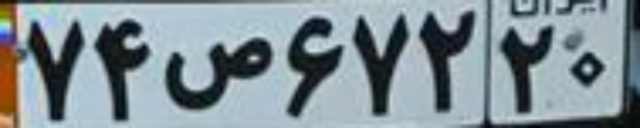0: (563, 51, 608, 87)
2: (414, 9, 478, 114), (497, 24, 555, 115)
4: (94, 14, 153, 120)
6: (281, 13, 345, 118)
7: (22, 15, 91, 121), (350, 11, 410, 116)
saat: (162, 36, 273, 110)
